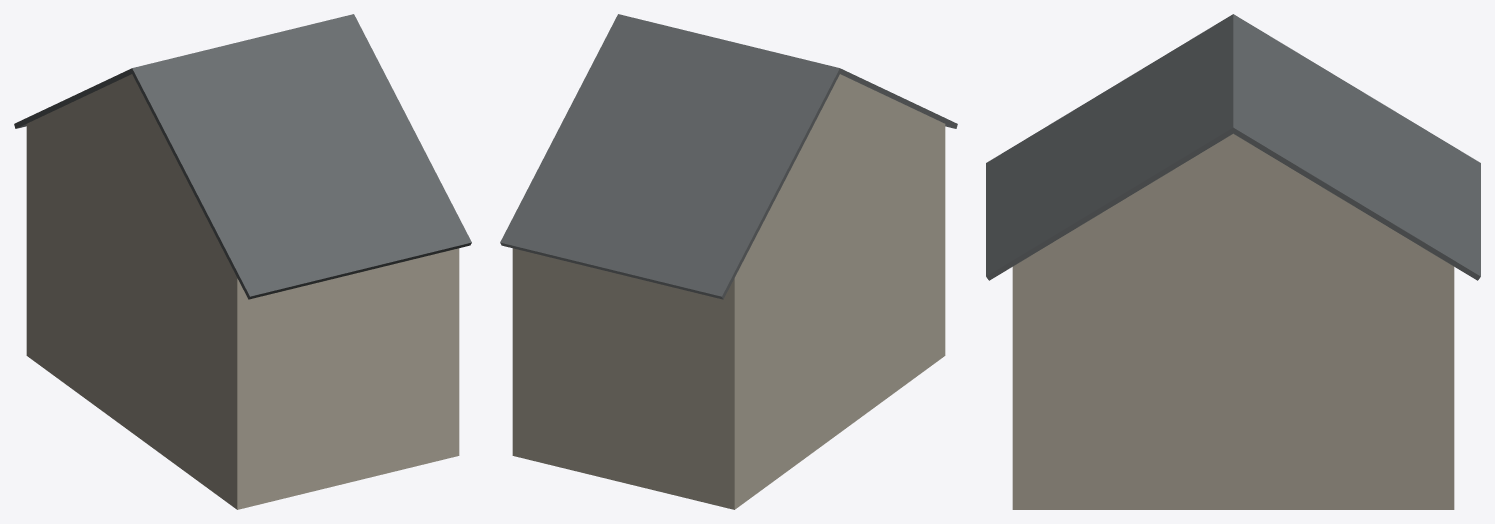
3 views of the same model, side by side, from view 1: azimuth 30°, elevation 25°; view 2: azimuth 150°, elevation 25°; view 3: azimuth 270°, elevation 25° (orthographic). The views are drawn at different scales.
Visible parts, largest first — view 1: walls_and_gables, roof_slopes; view 2: walls_and_gables, roof_slopes; view 3: walls_and_gables, roof_slopes.
Part boxes in pixels (x1,y1,x2,y2): walls_and_gables: (26, 74, 459, 509); roof_slopes: (14, 14, 471, 299); walls_and_gables: (512, 74, 945, 509); roof_slopes: (500, 14, 957, 299); walls_and_gables: (1012, 133, 1454, 509); roof_slopes: (986, 14, 1480, 280).
Size of the model in its own units: 16.28 by 25.58 by 30.
